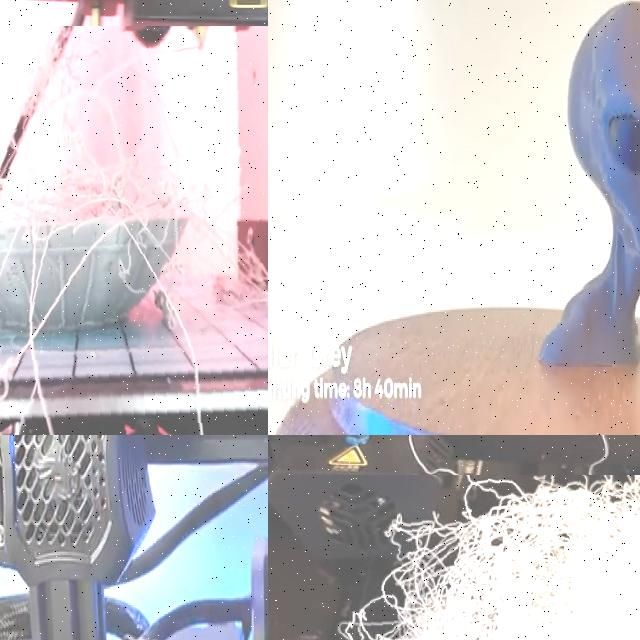spaghetti: (0, 26, 268, 435), (268, 475, 640, 640)
